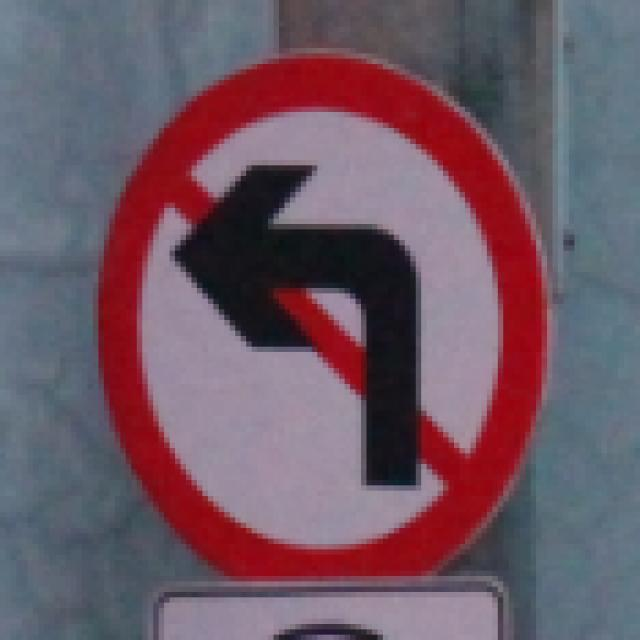Not that Direction: (114, 52, 522, 576)
